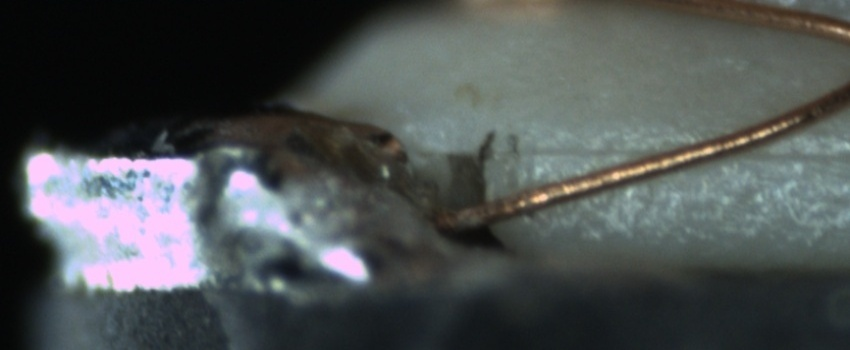DL: (514, 120, 847, 182)
